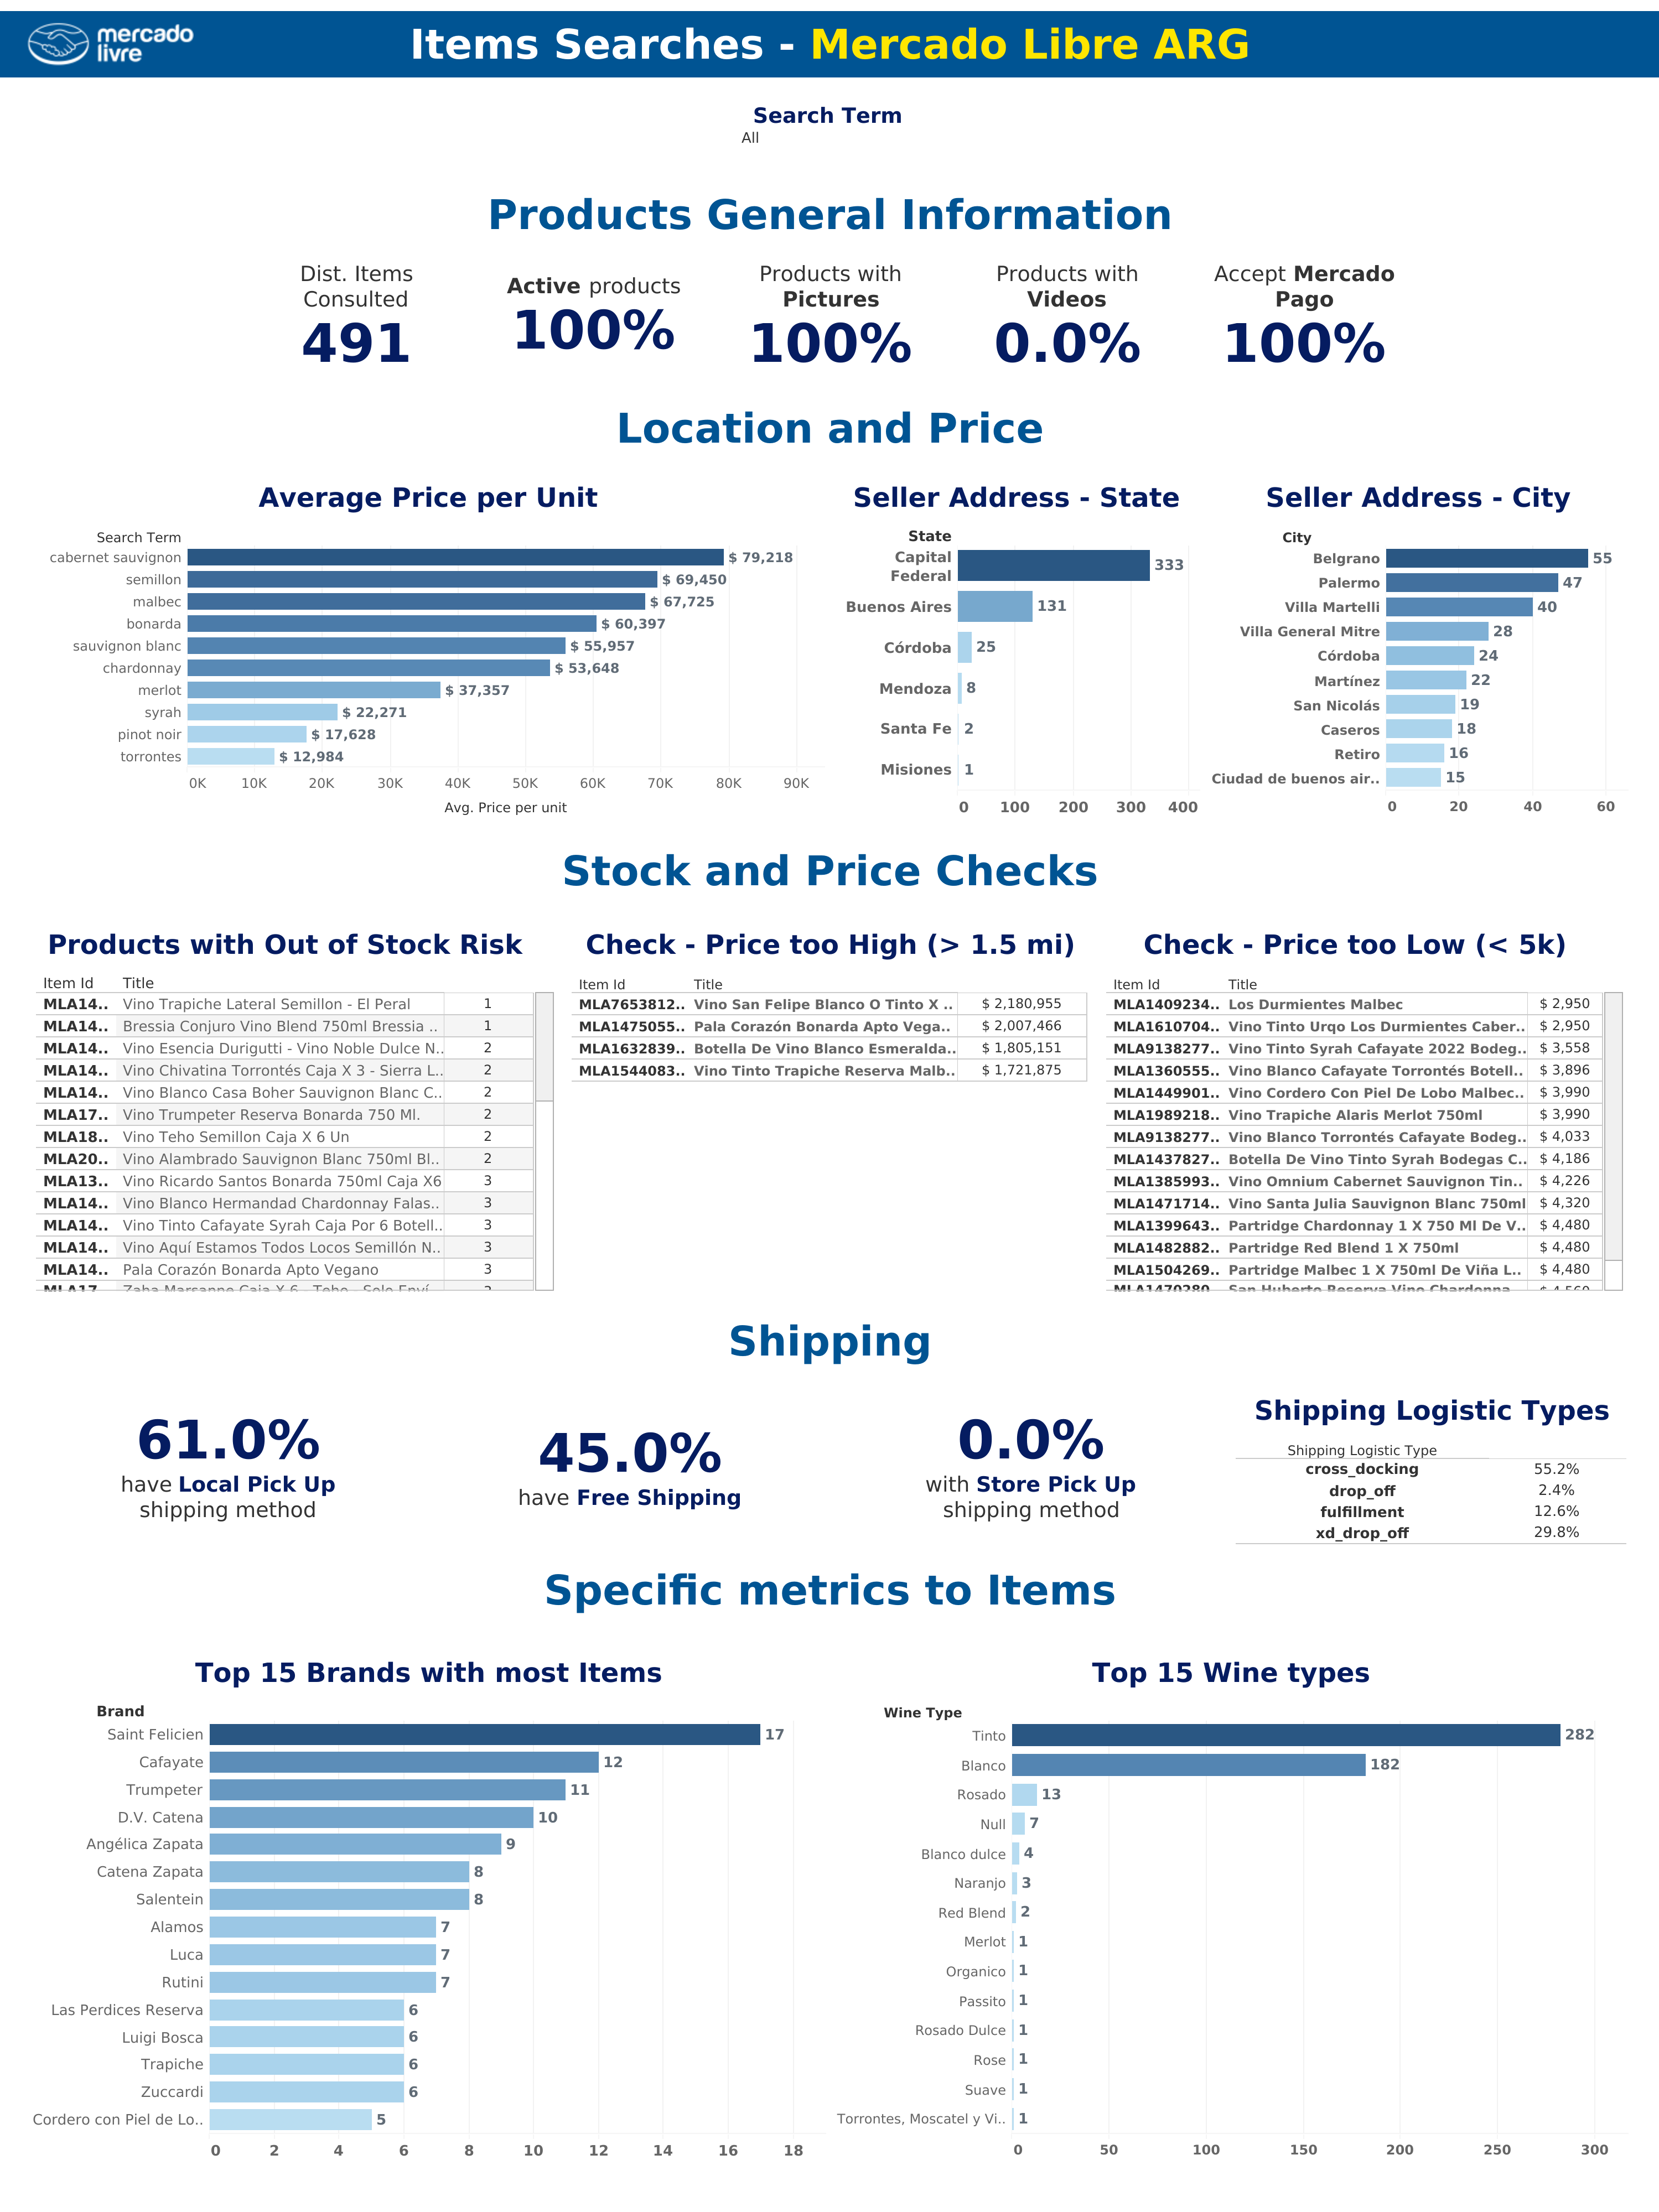

The page's visual inventory and layout, read from the dashboard file:
{"tool":"tableau","page":{"name":"Item Searches - Case 2","canvas":[1500,2000],"ordinal":1},"visuals":[{"type":"blank","box":[0,0,1500,25]},{"type":"text","box":[0,10,1500,60]},{"type":"image","param":"Image/PARCEIRO3.png","box":[25,10,150,60]},{"type":"blank","box":[23,88,641,73]},{"type":"filter","title":"distinct count items","param":"[federated.1yte8gy1o82k7p12g6gs61qa65pz].[none:search_term:nk]","box":[664,88,168,73]},{"type":"blank","box":[832,88,641,73]},{"type":"text","box":[0,169,1500,50]},{"type":"blank","box":[0,225,215,125]},{"type":"worksheet","title":"distinct count items","mark":"Automatic","box":[215,225,215,125]},{"type":"worksheet","title":"status","mark":"Automatic","box":[430,225,214,125]},{"type":"worksheet","title":"Pictures Null","mark":"Automatic","box":[644,225,214,125]},{"type":"worksheet","title":"Videos Null","mark":"Automatic","box":[858,225,214,125]},{"type":"worksheet","title":"accepts mercadopago","mark":"Automatic","box":[1072,225,214,125]},{"type":"blank","box":[1286,225,214,125]},{"type":"text","box":[0,362,1500,50]},{"type":"worksheet","title":"price per unit","mark":"Automatic","rows":["search_term"],"cols":["Calculation_2269392047621709829"],"box":[25,425,724,323]},{"type":"worksheet","title":"seller adress states","mark":"Bar","rows":["seller_address_state_name"],"cols":["results-20250216-191313_0704A7D2F7174126A267BF4D6FB948E2"],"box":[749,425,339,323]},{"type":"worksheet","title":"seller adress cities","mark":"Automatic","rows":["seller_address_city_name"],"cols":["results-20250216-191313_0704A7D2F7174126A267BF4D6FB948E2"],"box":[1088,425,387,323]},{"type":"text","box":[0,762,1500,50]},{"type":"worksheet","title":"Risco de Out of Stock","mark":"Automatic","rows":["item_id","title"],"box":[25,825,484,350]},{"type":"worksheet","title":"price per unit too high","mark":"Automatic","rows":["item_id","title"],"box":[509,825,483,350]},{"type":"worksheet","title":"price too low","mark":"Automatic","rows":["item_id","title"],"box":[992,825,483,350]},{"type":"text","box":[0,1187,1500,50]},{"type":"worksheet","title":"shipping local pick up","mark":"Automatic","box":[25,1250,363,150]},{"type":"worksheet","title":"shipping free shipping","mark":"Automatic","box":[388,1250,363,150]},{"type":"worksheet","title":"shipping store pickup","mark":"Automatic","box":[751,1250,362,150]},{"type":"worksheet","title":"shipping logistic type","mark":"Automatic","rows":["shipping_logistic_type"],"box":[1113,1250,362,150]},{"type":"text","box":[0,1412,1500,50]},{"type":"worksheet","title":"specific: brands","mark":"Automatic","rows":["brand"],"cols":["results-20250216-191313_0704A7D2F7174126A267BF4D6FB948E2"],"box":[25,1487,725,475]},{"type":"worksheet","title":"specific: wine type","mark":"Automatic","rows":["wine_type"],"cols":["results-20250216-191313_0704A7D2F7174126A267BF4D6FB948E2"],"box":[750,1487,725,475]}]}

Visuals, with their boxes in screenshot pixels (x1, y1, x2, y2), scaled from the page's 1500x2000 canvas onto the 1659x2212 screenshot:
blank: {"left": 0, "top": 0, "right": 1658, "bottom": 28}
text: {"left": 0, "top": 11, "right": 1658, "bottom": 77}
image: {"left": 28, "top": 11, "right": 194, "bottom": 77}
blank: {"left": 25, "top": 97, "right": 734, "bottom": 178}
"distinct count items" filter: {"left": 734, "top": 97, "right": 920, "bottom": 178}
blank: {"left": 920, "top": 97, "right": 1629, "bottom": 178}
text: {"left": 0, "top": 187, "right": 1658, "bottom": 242}
blank: {"left": 0, "top": 249, "right": 238, "bottom": 387}
"distinct count items" worksheet: {"left": 238, "top": 249, "right": 475, "bottom": 387}
"status" worksheet: {"left": 475, "top": 249, "right": 712, "bottom": 387}
"Pictures Null" worksheet: {"left": 712, "top": 249, "right": 949, "bottom": 387}
"Videos Null" worksheet: {"left": 949, "top": 249, "right": 1186, "bottom": 387}
"accepts mercadopago" worksheet: {"left": 1186, "top": 249, "right": 1422, "bottom": 387}
blank: {"left": 1422, "top": 249, "right": 1658, "bottom": 387}
text: {"left": 0, "top": 401, "right": 1658, "bottom": 456}
"price per unit" worksheet: {"left": 28, "top": 470, "right": 828, "bottom": 827}
"seller adress states" worksheet (Bar marks): {"left": 828, "top": 470, "right": 1204, "bottom": 827}
"seller adress cities" worksheet: {"left": 1204, "top": 470, "right": 1631, "bottom": 827}
text: {"left": 0, "top": 843, "right": 1658, "bottom": 898}
"Risco de Out of Stock" worksheet: {"left": 28, "top": 912, "right": 563, "bottom": 1300}
"price per unit too high" worksheet: {"left": 563, "top": 912, "right": 1097, "bottom": 1300}
"price too low" worksheet: {"left": 1097, "top": 912, "right": 1631, "bottom": 1300}
text: {"left": 0, "top": 1313, "right": 1658, "bottom": 1368}
"shipping local pick up" worksheet: {"left": 28, "top": 1383, "right": 429, "bottom": 1549}
"shipping free shipping" worksheet: {"left": 429, "top": 1383, "right": 831, "bottom": 1549}
"shipping store pickup" worksheet: {"left": 831, "top": 1383, "right": 1231, "bottom": 1549}
"shipping logistic type" worksheet: {"left": 1231, "top": 1383, "right": 1631, "bottom": 1549}
text: {"left": 0, "top": 1562, "right": 1658, "bottom": 1617}
"specific: brands" worksheet: {"left": 28, "top": 1645, "right": 829, "bottom": 2170}
"specific: wine type" worksheet: {"left": 829, "top": 1645, "right": 1631, "bottom": 2170}
